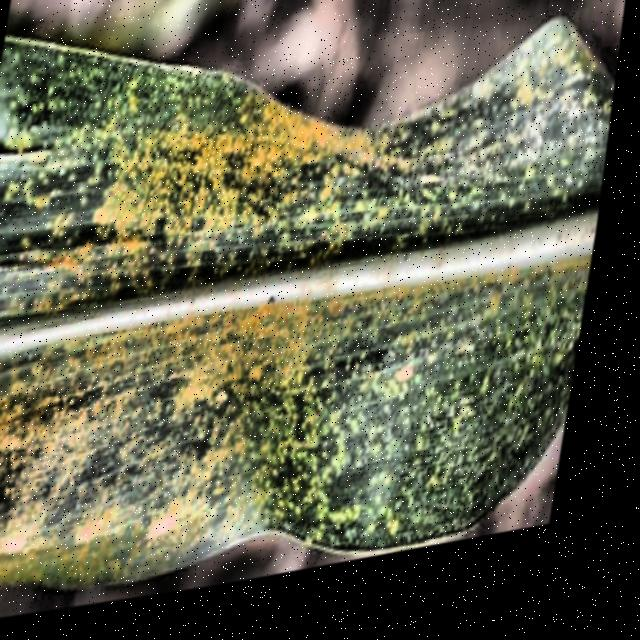common_rust: (0, 0, 618, 590)
